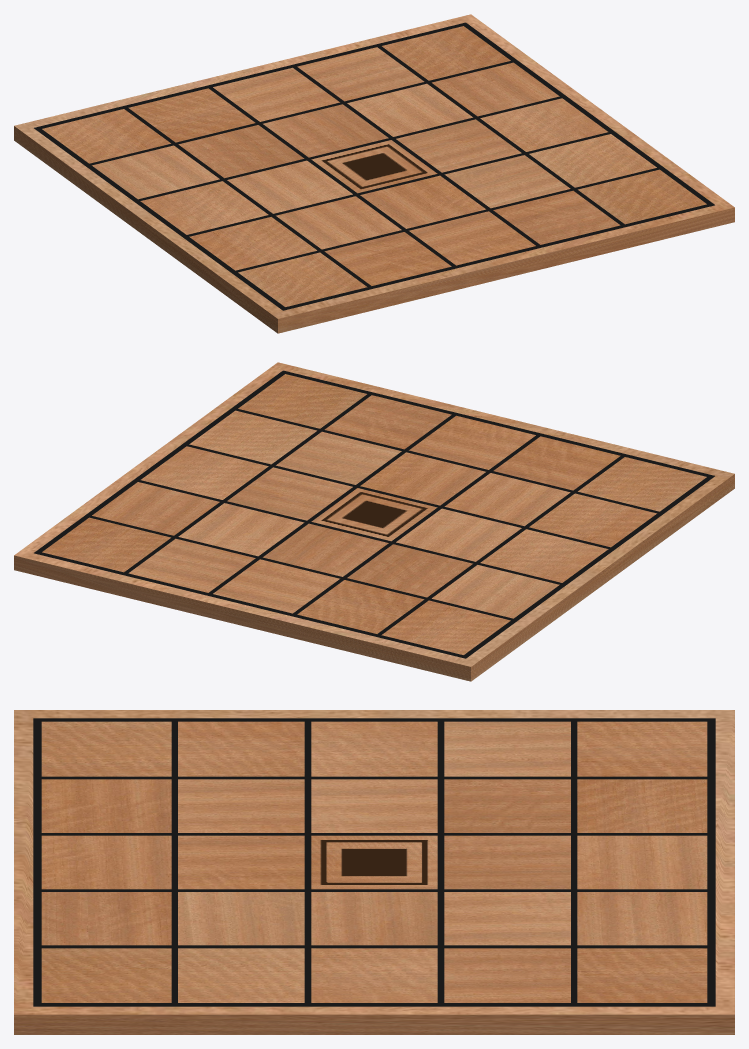
File: Board.fbx
3 renders of one model, top to bottom at view 1: azimuth 30°, elevation 25°; view 2: azimuth 150°, elevation 25°; view 3: azimuth 270°, elevation 25°, orthographic. The views are drawn at different scales.
Visible parts, largest first — view 1: Board; view 2: Board; view 3: Board.
Part boxes in pixels (<box>): Board: <box>14,14,734,333</box>; Board: <box>14,362,734,681</box>; Board: <box>14,710,734,1034</box>.
Bounding box in the file's own units: 1300 × 40 × 1300.
